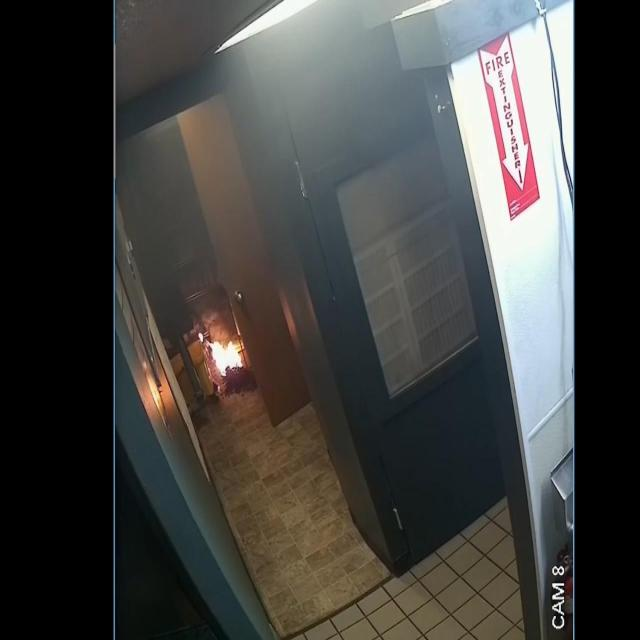fire: (199, 333, 242, 377)
